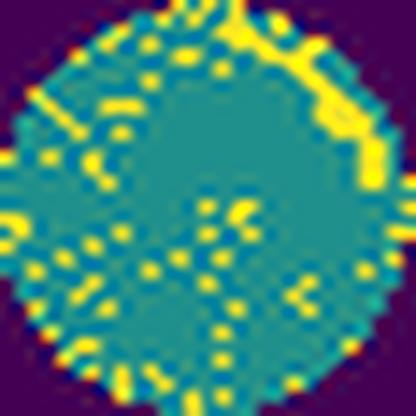Scratch: (209, 0, 390, 196), (27, 84, 94, 148)
